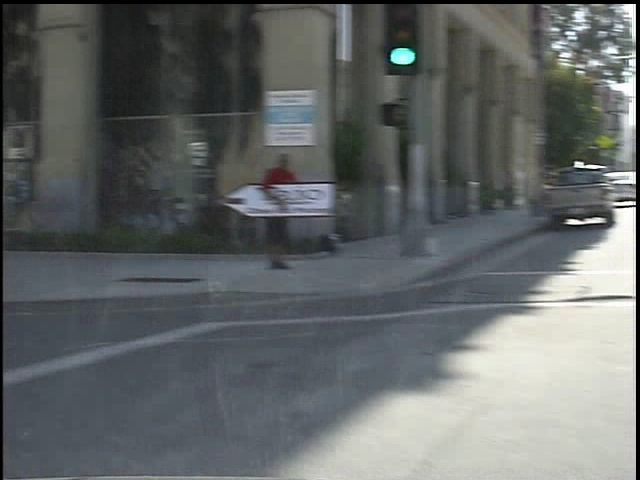person: (245, 144, 289, 274)
